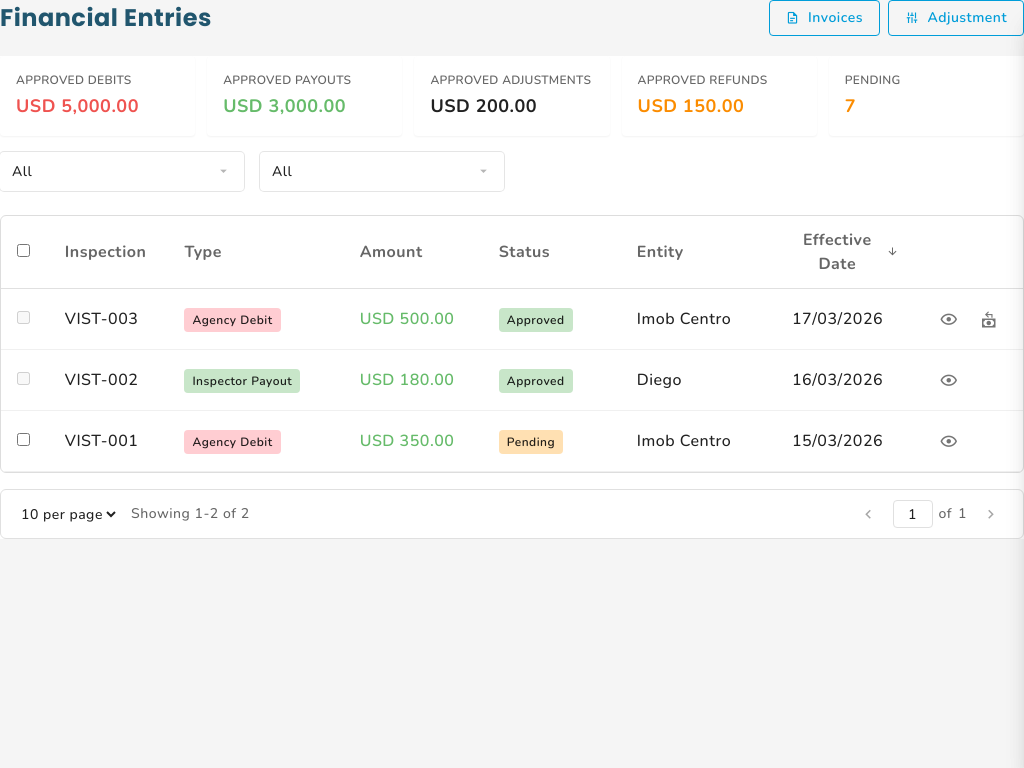
Test: FinancialEntriesPage › opens the refund modal from a row action, pre-filled with the selected entry (no raw ID entry)
Click the button named "Refund" at (989, 319), box [971, 301, 1007, 337]
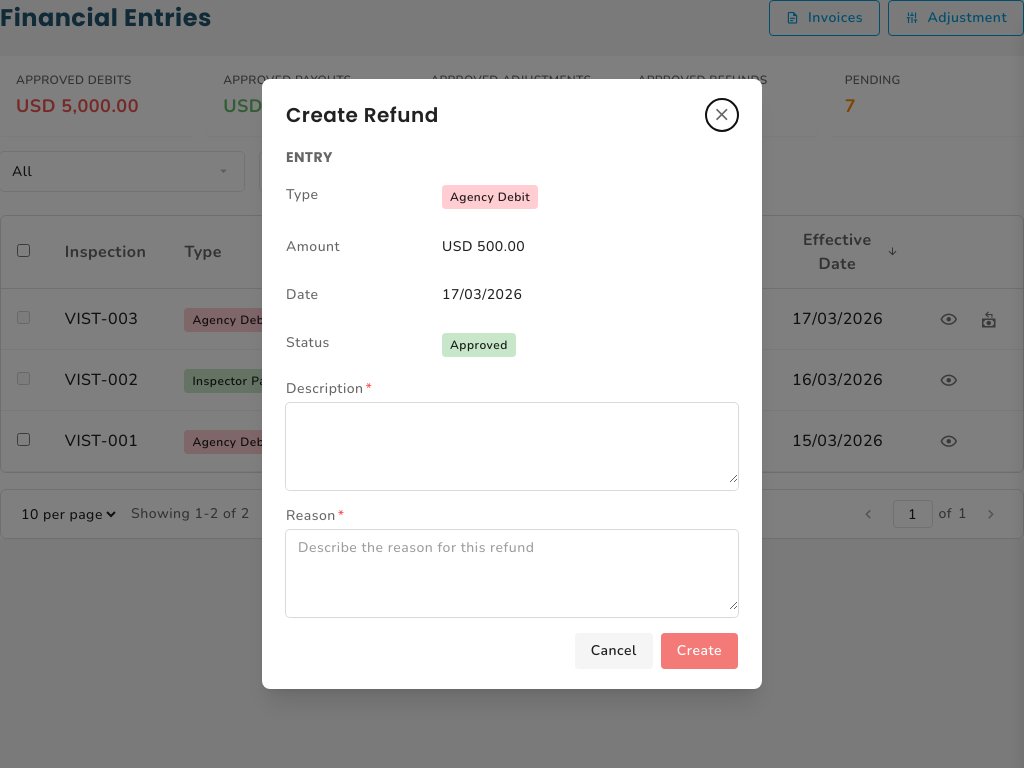
Expected: the heading "Create Refund" is shown, [286, 101, 439, 129]
